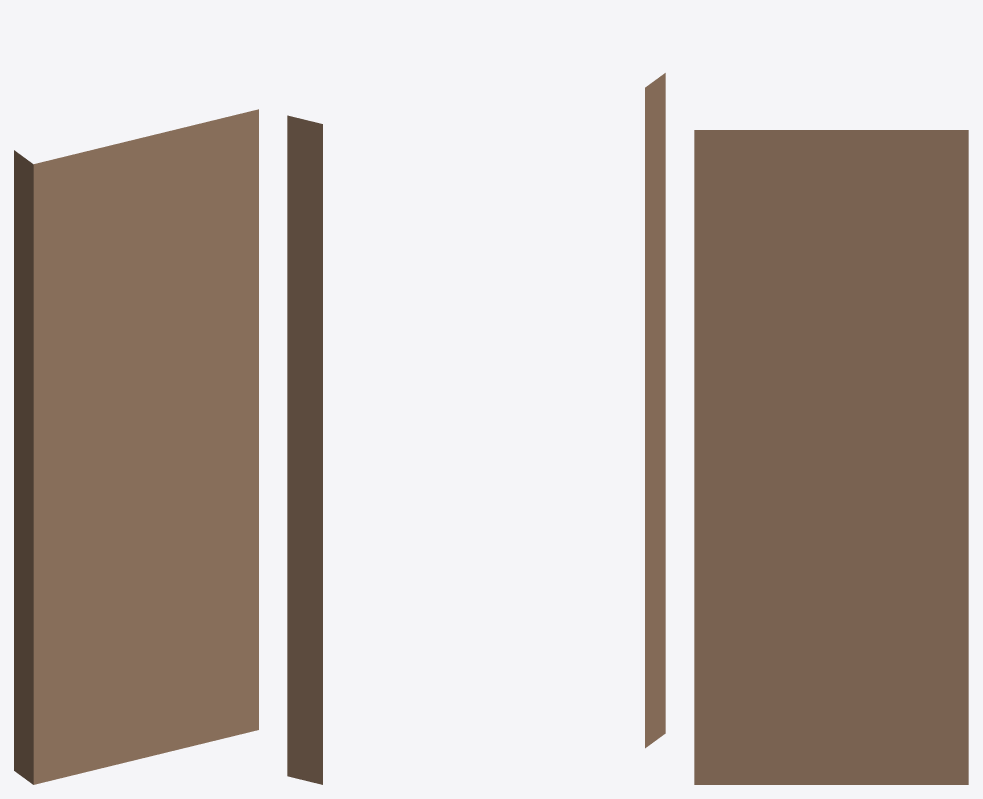
The model's file is env_block_brick_corner_column_center.glb.
3 views of the same model, side by side, from view 1: azimuth 30°, elevation 25°; view 2: azimuth 150°, elevation 25°; view 3: azimuth 270°, elevation 25° (orthographic). The views are drawn at different scales.
Parts seen in each view (by area): view 1: geometry_0; view 2: geometry_0; view 3: geometry_0.
Part boxes in pixels (bbox=[...]): geometry_0: bbox=[14, 109, 258, 784]; geometry_0: bbox=[287, 73, 665, 784]; geometry_0: bbox=[694, 130, 968, 784].
Bounding box in the file's own units: 1.14 × 3 × 1.14.
